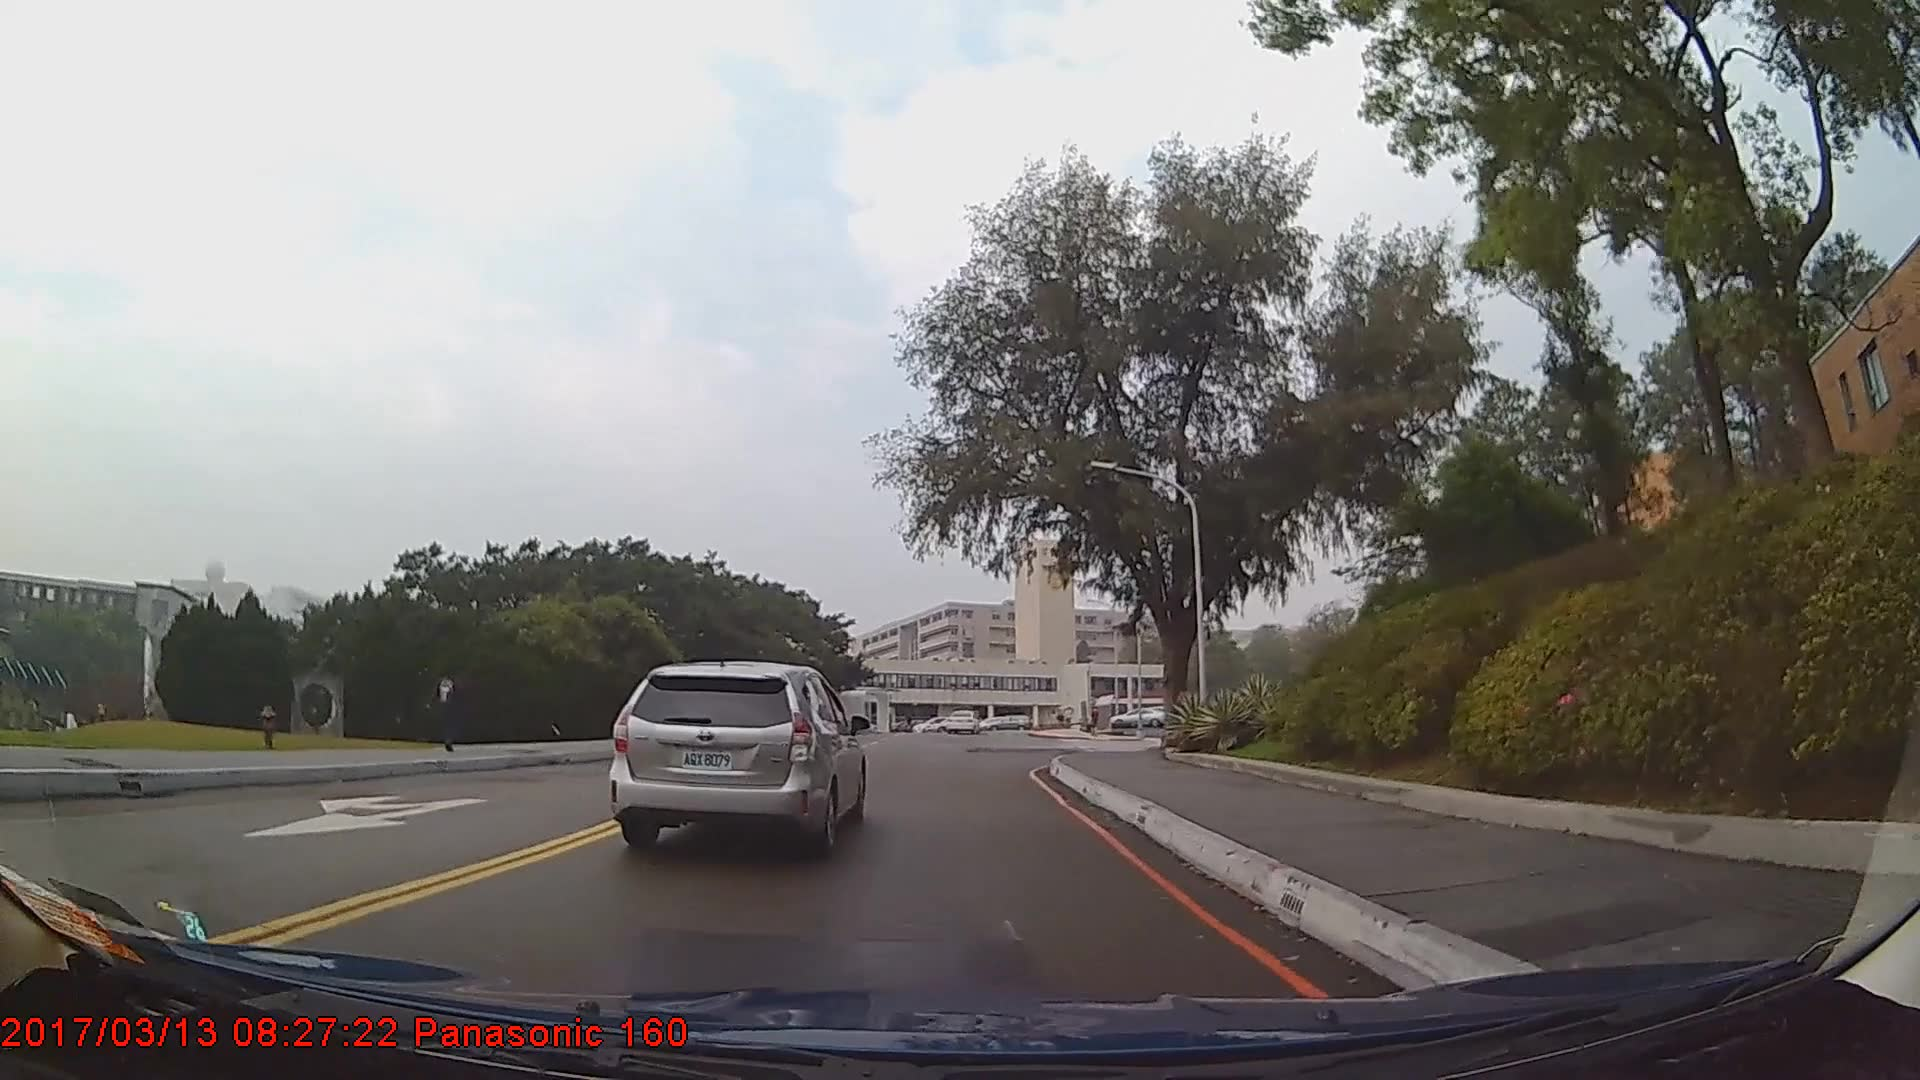pedestrian: (424, 659, 469, 754)
vehicle: (605, 658, 866, 852), (943, 704, 981, 731)
